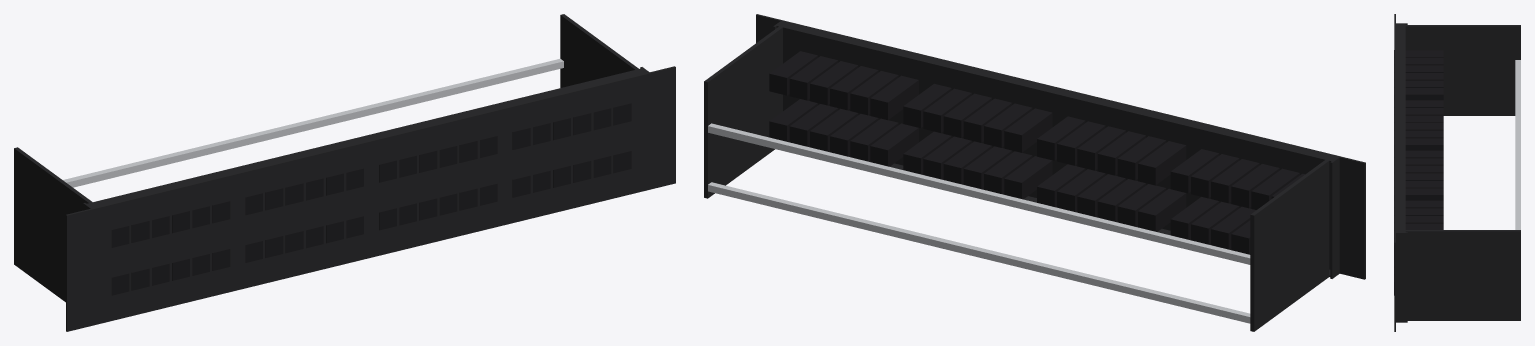
The model's file is PP-RJ45-48.far.glb.
3 views of the same model, side by side, from view 1: azimuth 30°, elevation 25°; view 2: azimuth 150°, elevation 25°; view 3: azimuth 270°, elevation 25° (orthographic). The views are drawn at different scales.
Parts seen in each view (by area): view 1: PP-RJ45-48_Body_far; view 2: PP-RJ45-48_Body_far; view 3: PP-RJ45-48_Body_far.
Boxes of the visible parts, bbox=[...] form: PP-RJ45-48_Body_far: bbox=[14, 14, 675, 331]; PP-RJ45-48_Body_far: bbox=[704, 14, 1365, 331]; PP-RJ45-48_Body_far: bbox=[1394, 14, 1520, 331].
Size of the model in its own units: 0.4826 by 0.0881 by 0.1133.
Materials: 1 (1 with a texture image).
